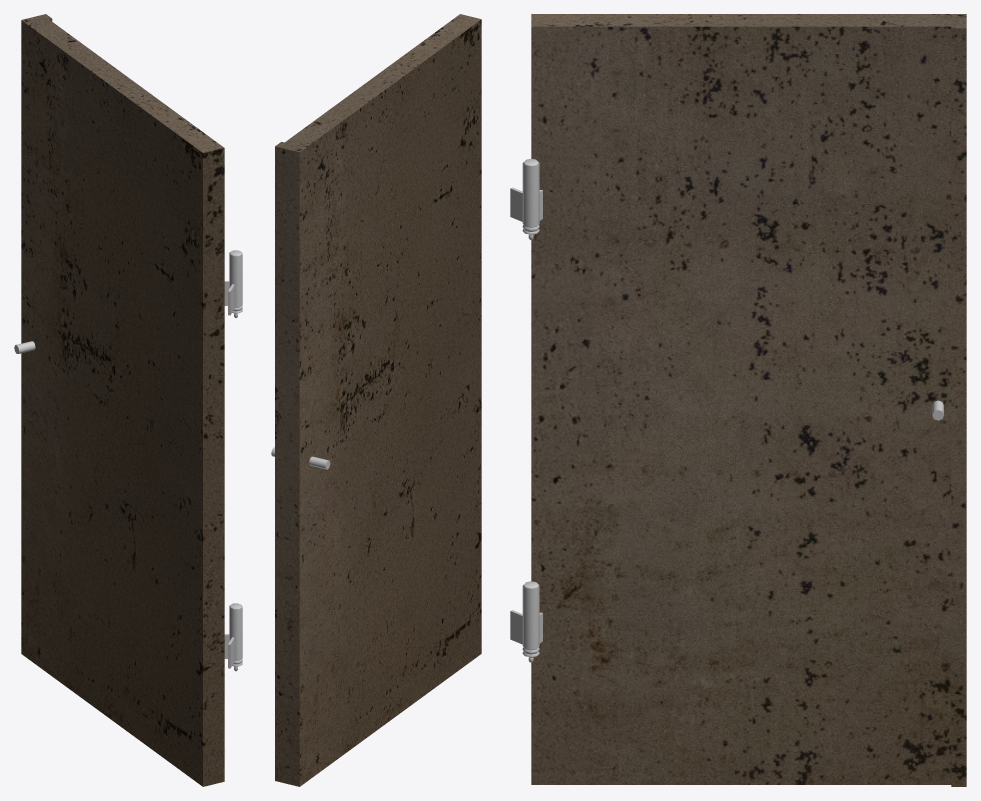
File: SM_IronDoor01C.fbx
The picture shows the model from 3 angles, left to right: view 1: azimuth 30°, elevation 25°; view 2: azimuth 150°, elevation 25°; view 3: azimuth 270°, elevation 25°; orthographic projection. The views are drawn at different scales.
Visible parts, largest first — view 1: SM_IronDoor01C; view 2: SM_IronDoor01C; view 3: SM_IronDoor01C.
Part boxes in pixels (left/top/right/bottom): SM_IronDoor01C: left=14, top=14, right=242, bottom=786; SM_IronDoor01C: left=271, top=14, right=481, bottom=786; SM_IronDoor01C: left=510, top=14, right=966, bottom=786.
Bounding box in the file's own units: 12.87 × 77.1 × 141.
